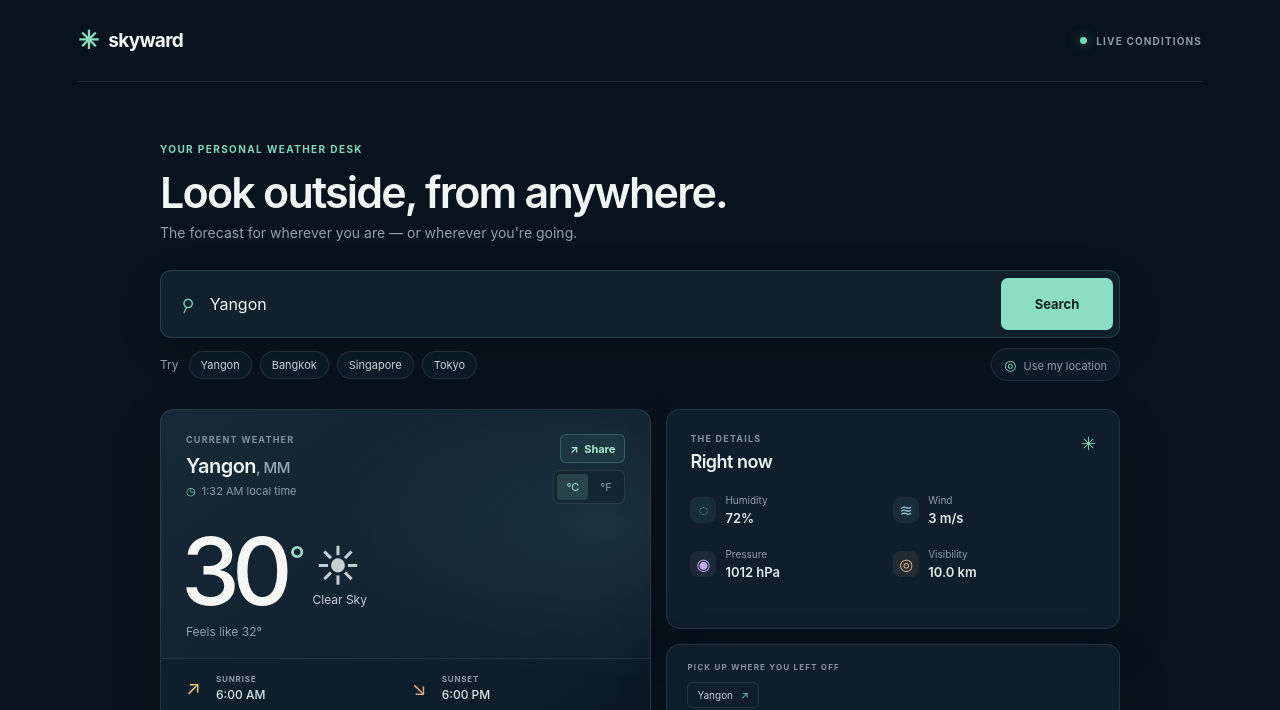
copies the selected forecast link when device sharing is unavailable
The image size is (1280, 710).
Click the button "↗ Share" at [593, 449], box x1=560 y1=434 x2=625 y2=463
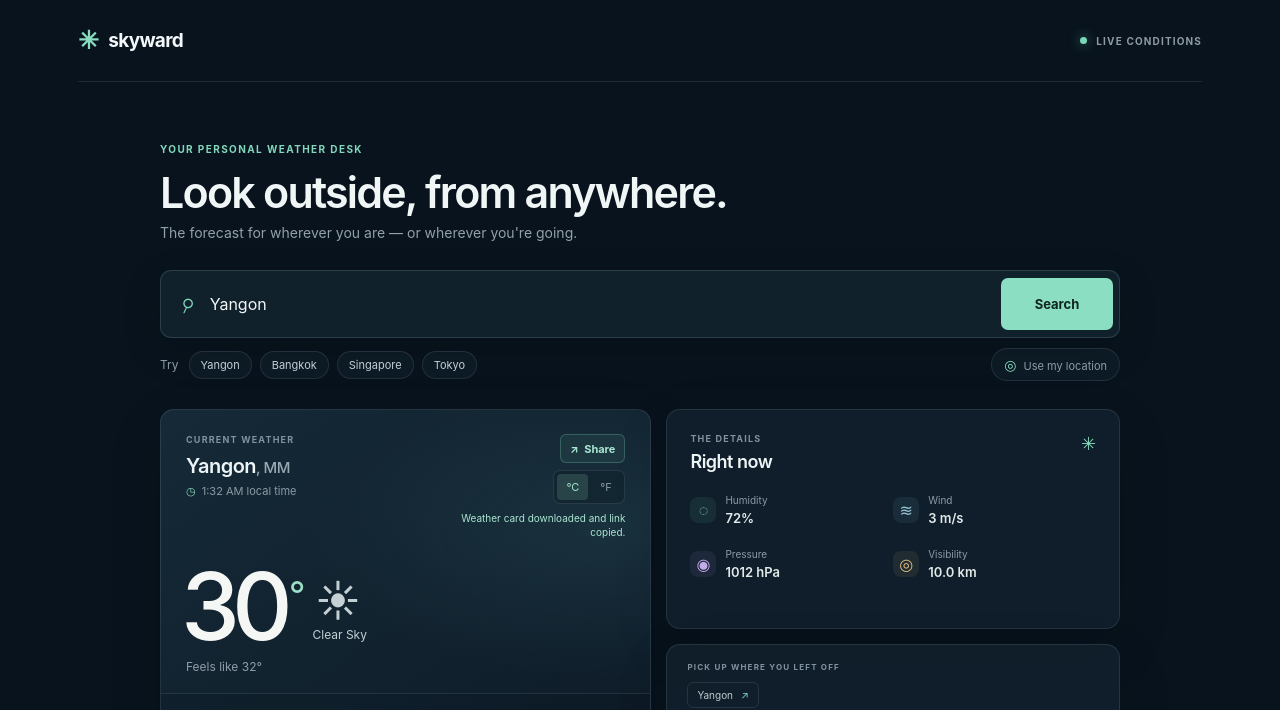
expect the message reads "Weather card downloaded and link copied.": met, box x1=461 y1=512 x2=625 y2=538
